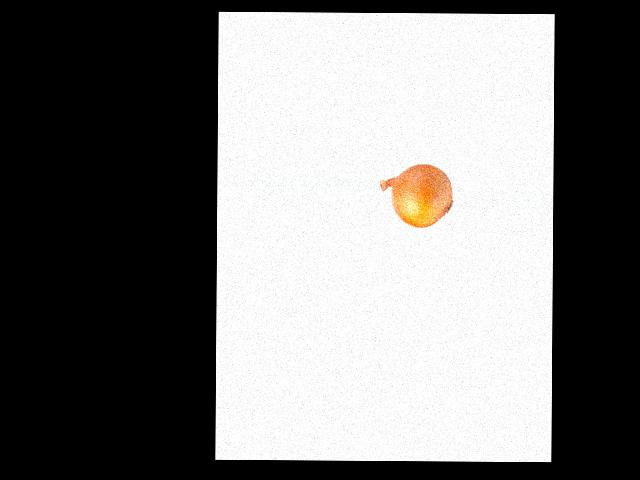onion: (388, 162, 451, 228)
